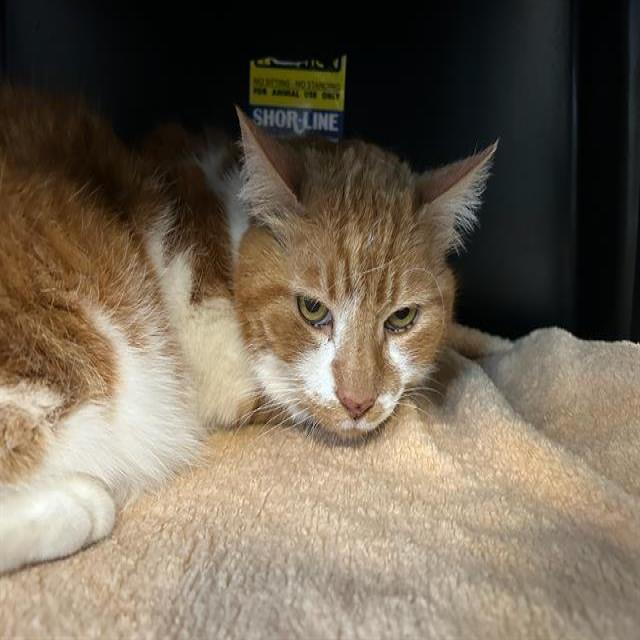manx_cat: (200, 78, 514, 476)
